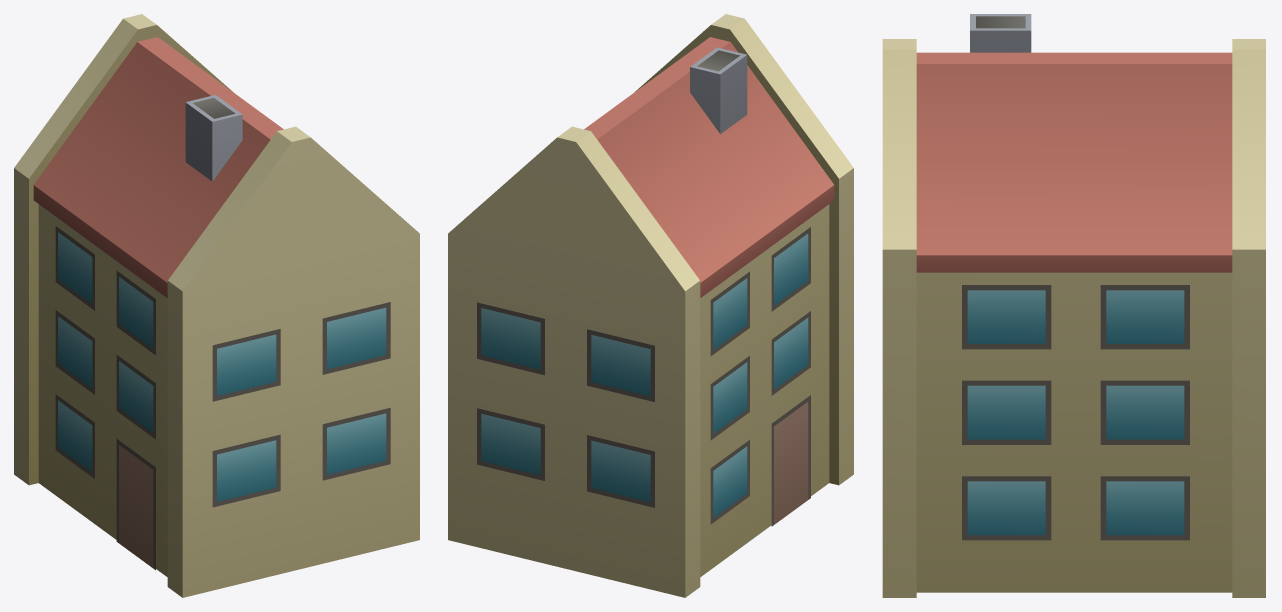
Rendered from House_X_B.fbx.
The picture shows the model from 3 angles, left to right: view 1: azimuth 30°, elevation 25°; view 2: azimuth 150°, elevation 25°; view 3: azimuth 270°, elevation 25°; orthographic projection. The views are drawn at different scales.
Parts seen in each view (by area): view 1: House_X_B; view 2: House_X_B; view 3: House_X_B.
Boxes of the visible parts, box(x1,y1,x2,y2) form: House_X_B: box(14, 14, 419, 597); House_X_B: box(448, 14, 853, 597); House_X_B: box(882, 14, 1265, 597).
Bounding box in the file's own units: 722 × 1253 × 894.
